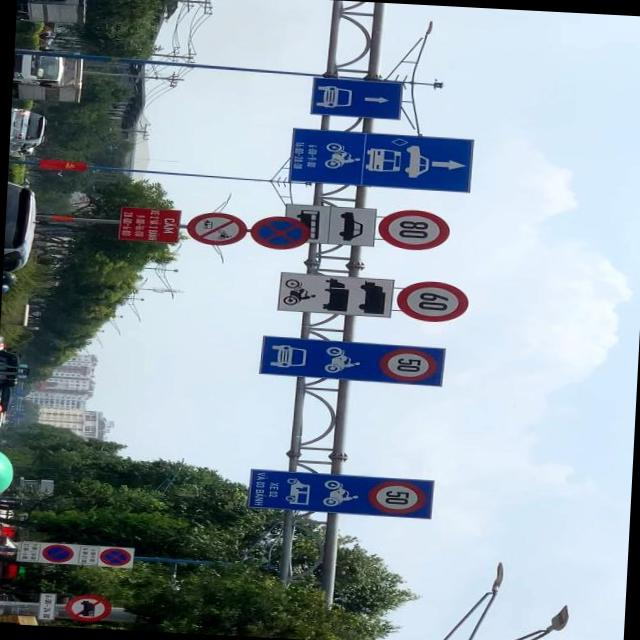P-104: (188, 212, 245, 246)
P-127: (396, 280, 469, 326), (376, 209, 452, 253)
P-130: (250, 214, 311, 252)
